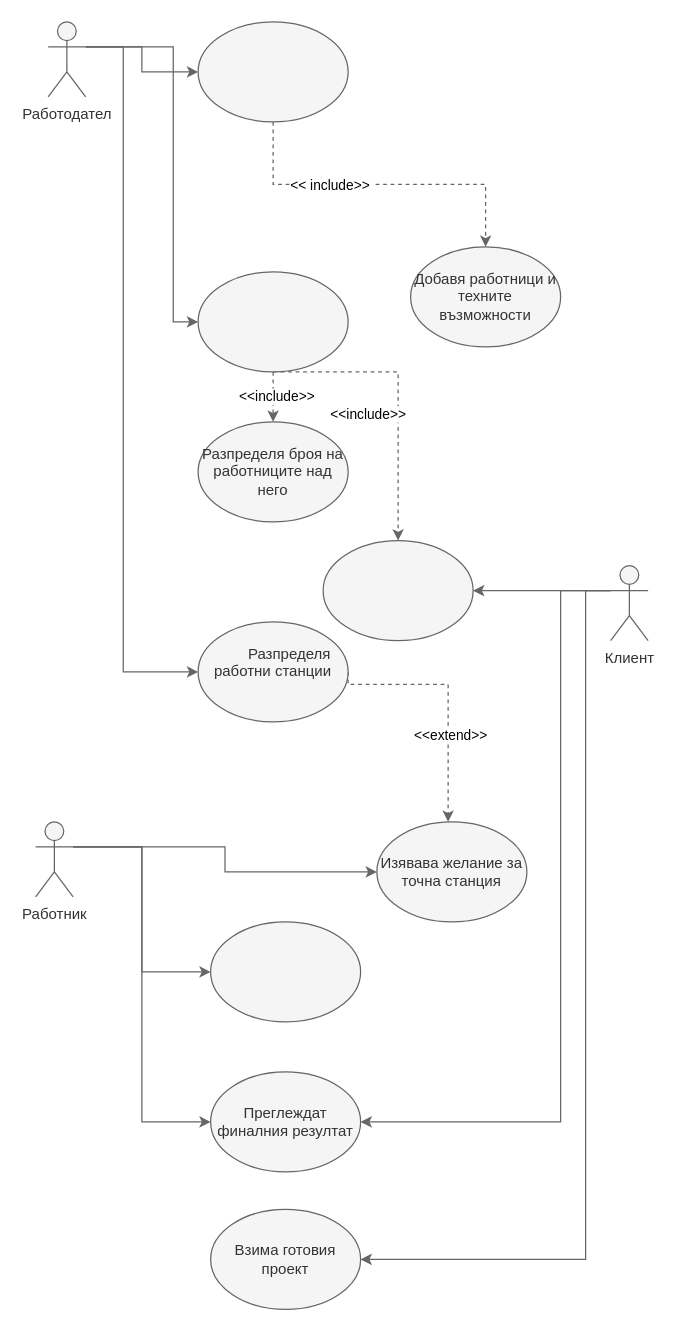
The diagram is 675 pixels wide and 1331 high, and some of its shapes have lost their labels. Each missing label, with the box of its shape:
Казва какъв ще бъде проекта: (322, 539, 473, 641)
Наема работници: (197, 21, 348, 122)
Работи по проекта: (209, 921, 361, 1022)
Създава проектите: (197, 271, 348, 372)
